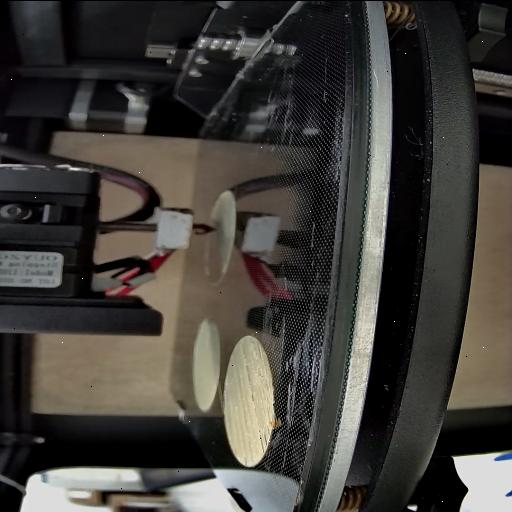under_extrusion: (244, 359, 258, 410), (256, 424, 272, 452), (243, 444, 255, 466), (260, 372, 270, 392), (256, 342, 266, 360), (265, 403, 273, 421)
